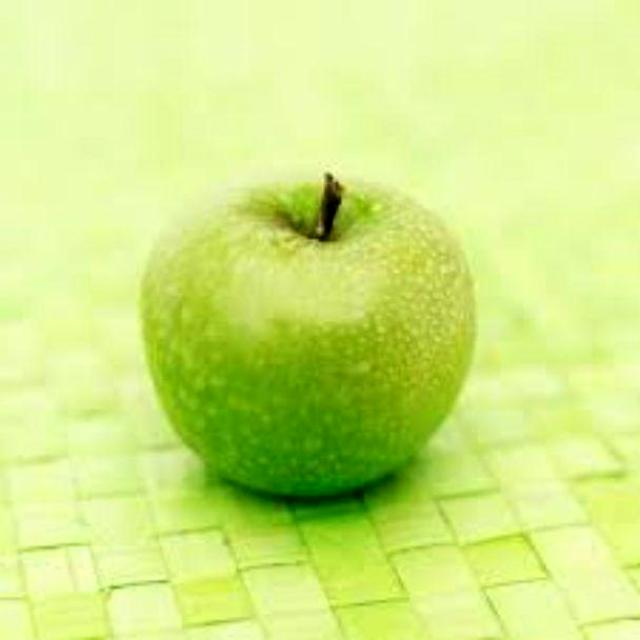HEALTHY: (124, 141, 493, 513)
